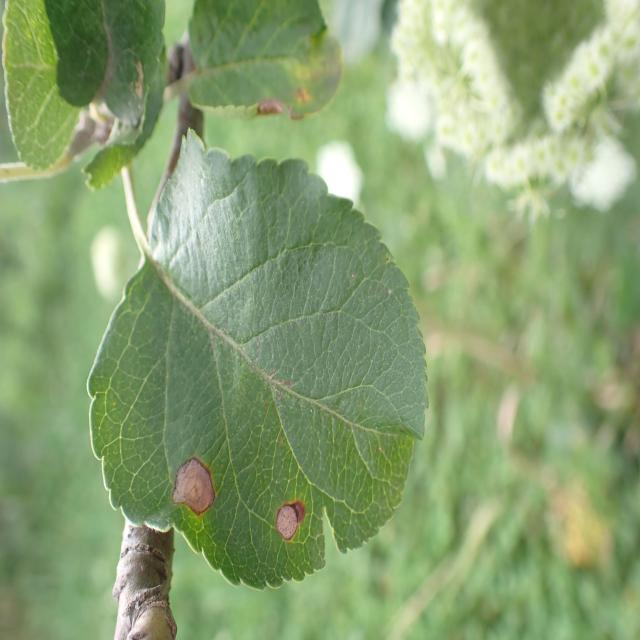Black Rot: (163, 434, 231, 540), (243, 70, 322, 136), (271, 486, 314, 561)
